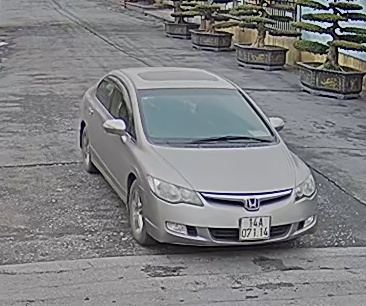vehicle plate: (237, 212, 269, 242)
